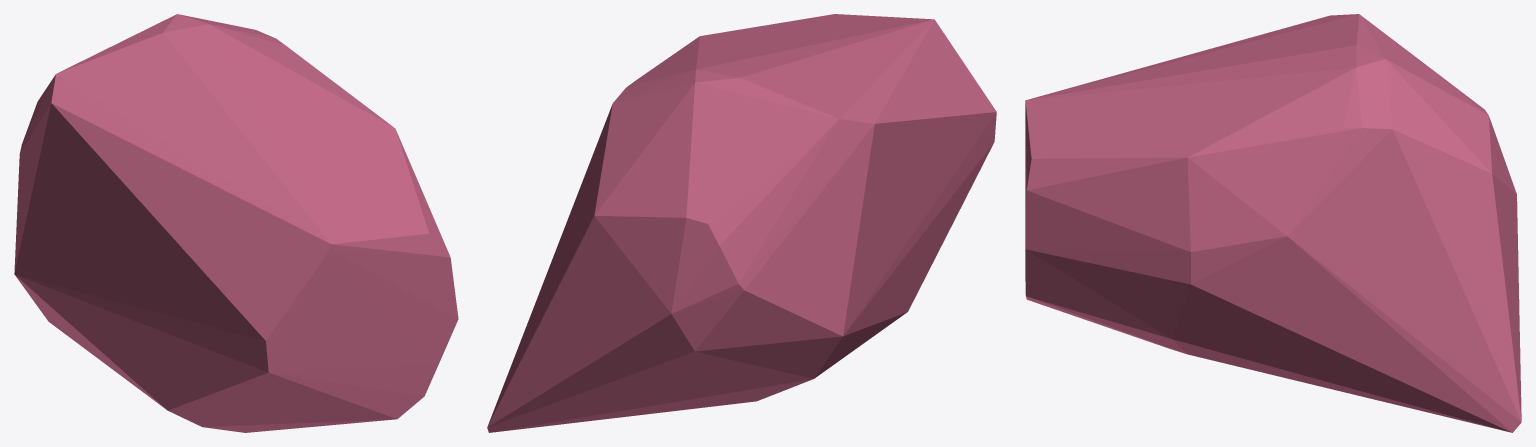
The model's file is paint_container_bottle_blue_a04.glb.
3 views of the same model, side by side, from view 1: azimuth 30°, elevation 25°; view 2: azimuth 150°, elevation 25°; view 3: azimuth 270°, elevation 25° (orthographic). The views are drawn at different scales.
Parts seen in each view (by area): view 1: geometry_0; view 2: geometry_0; view 3: geometry_0.
Part boxes in pixels (box(x1,y1,x2,y2)): geometry_0: box(14, 14, 458, 432); geometry_0: box(487, 14, 996, 432); geometry_0: box(1025, 14, 1521, 432).
Bounding box in the file's own units: 0.3004 × 0.3307 × 0.4771.
